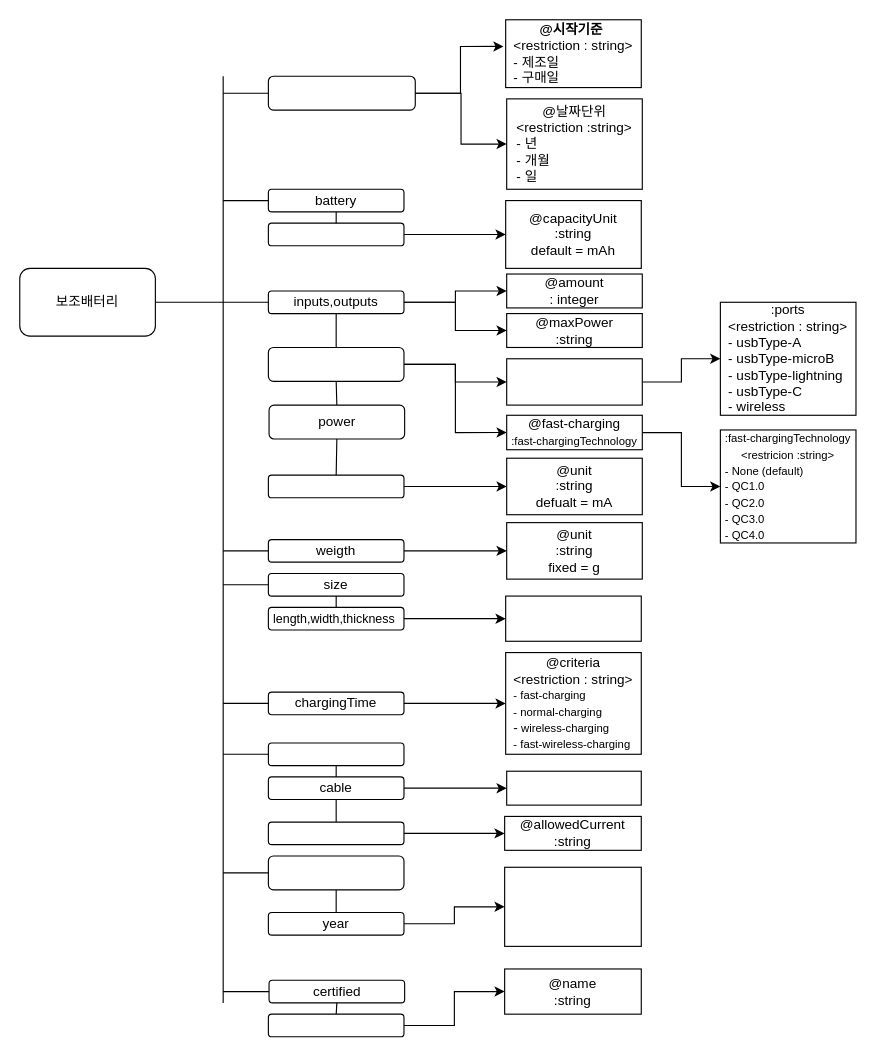
Some shapes in this 876 by 1057 pixel diagram are drawn without their labels. The shapes that lost their labels are listed below. From the top down, each one's centre as x and y in pixels, then its label:
At pixel 341 92: "warranty".
At pixel 335 234: "capacity".
At pixel 335 363: "input/output (공통)".
At pixel 574 381: "@portType :ports".
At pixel 335 486: "current".
At pixel 573 618: "@unit :string fixed = mm".
At pixel 335 754: "package".
At pixel 573 787: "@length :string".
At pixel 335 833: "standard".
At pixel 335 872: "ManufcaturedDate".
At pixel 572 906: "@part <restriction : string> - early - mid - late".
At pixel 335 1025: "national".
